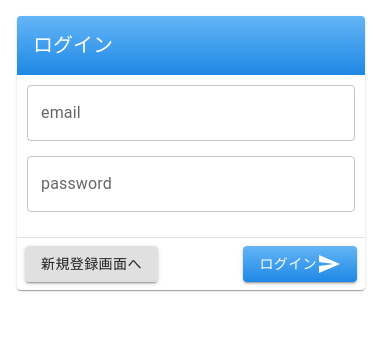
Test: login › email error
Type "test" into the field labelled "email" at (191, 113), box [27,85,355,141]
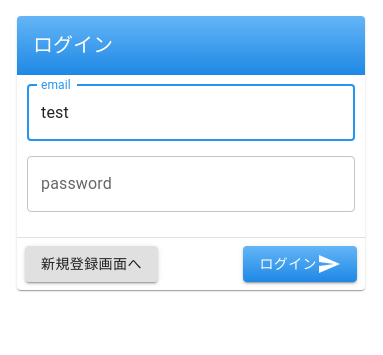
Click the button with test id "submit" at (300, 265), box [243,246,357,283]
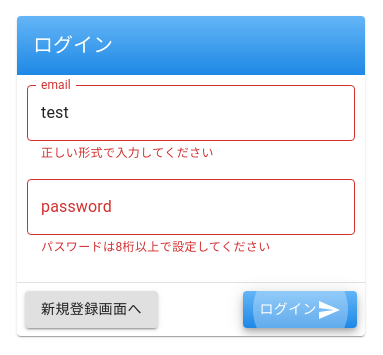
Now the text "正しい形式で入力してください" is shown, box [41,146,214,160]
